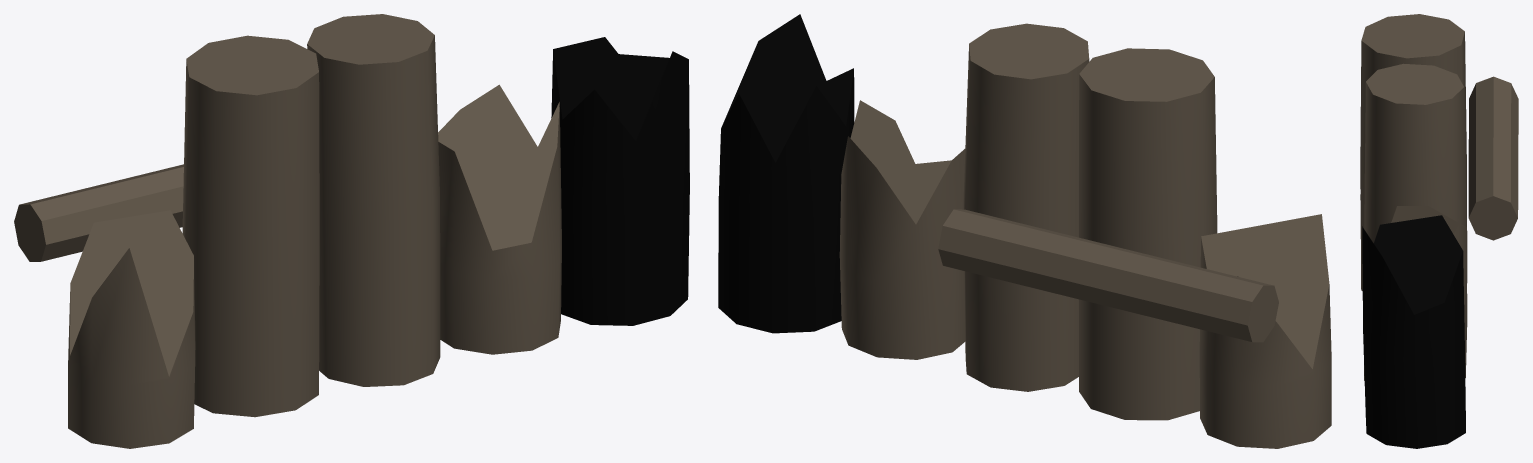
The model's file is bruestung_holz_05_1m_kaputt.glb.
The picture shows the model from 3 angles, left to right: view 1: azimuth 30°, elevation 25°; view 2: azimuth 150°, elevation 25°; view 3: azimuth 270°, elevation 25°; orthographic projection. The views are drawn at different scales.
Visible parts, largest first — view 1: bruestung_holz_05_1m_kaputt; view 2: bruestung_holz_05_1m_kaputt; view 3: bruestung_holz_05_1m_kaputt.
Boxes of the visible parts, x1,y1,x2,y2 form: bruestung_holz_05_1m_kaputt: (14, 14, 689, 448); bruestung_holz_05_1m_kaputt: (718, 14, 1331, 448); bruestung_holz_05_1m_kaputt: (1360, 14, 1518, 448).
Size of the model in its own units: 0.9925 by 0.5106 by 0.289.
